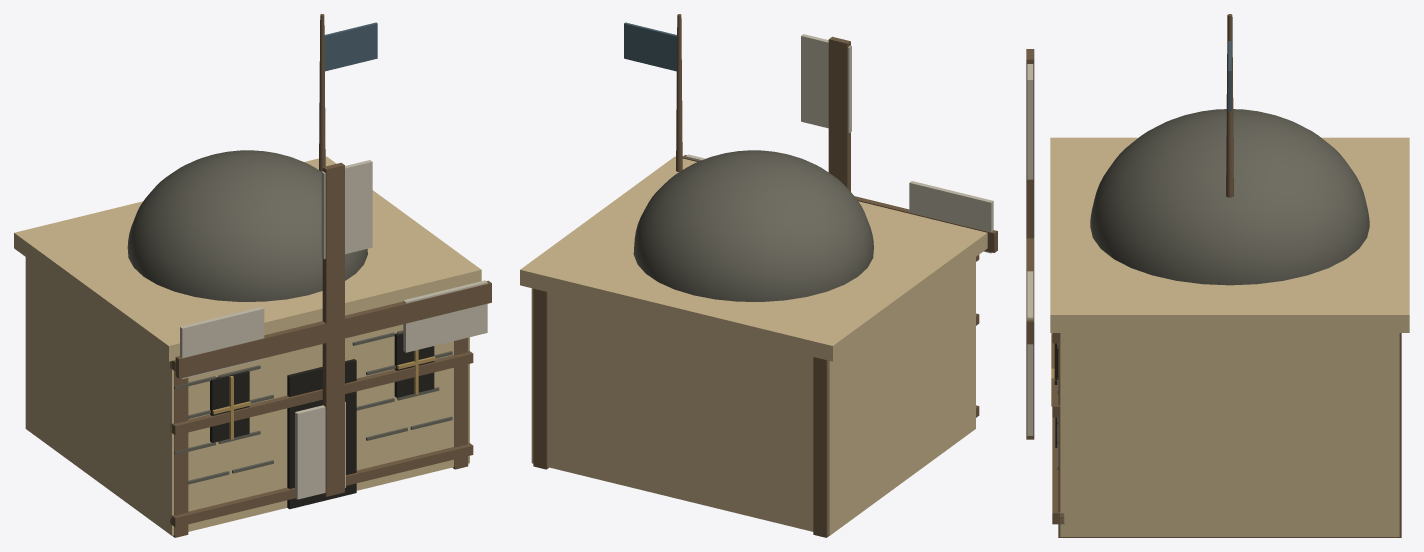
The model's file is b-mill-ayyubid.glb.
3 views of the same model, side by side, from view 1: azimuth 30°, elevation 25°; view 2: azimuth 150°, elevation 25°; view 3: azimuth 270°, elevation 25° (orthographic). The views are drawn at different scales.
Parts seen in each view (by area): view 1: Structure, sail1, sail0, sail3, sail2; view 2: Structure, sail0, sail1; view 3: Structure, sail0, sail3, sail2.
Part boxes in pixels (x1=…): Structure: x1=14, y1=14, x2=481, y2=537; sail1: x1=175, y1=307, x2=342, y2=379; sail0: x1=321, y1=160, x2=372, y2=335; sail3: x1=328, y1=280, x2=491, y2=352; sail2: x1=295, y1=338, x2=345, y2=499; Structure: x1=520, y1=14, x2=987, y2=537; sail0: x1=801, y1=34, x2=851, y2=191; sail1: x1=854, y1=181, x2=997, y2=253; Structure: x1=1050, y1=14, x2=1409, y2=537; sail0: x1=1026, y1=49, x2=1034, y2=238; sail3: x1=1026, y1=238, x2=1034, y2=376; sail2: x1=1026, y1=344, x2=1034, y2=439.
Size of the model in its own units: 4.2 by 5.33 by 3.84.
